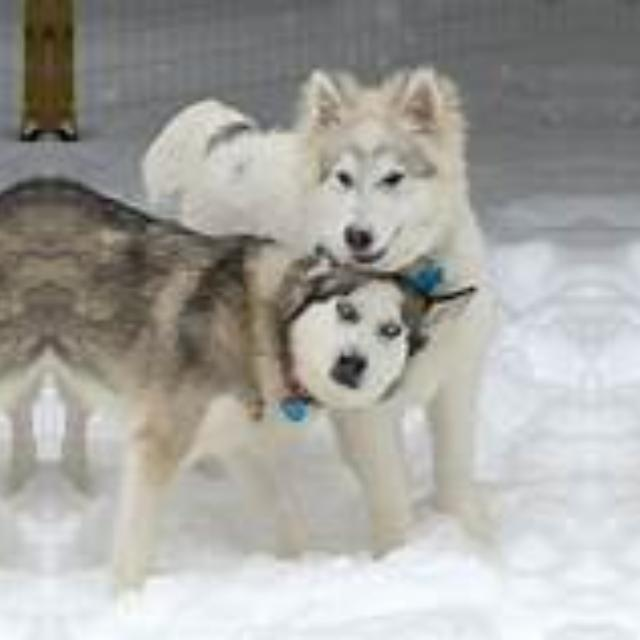dog: (48, 190, 434, 438), (138, 98, 526, 266), (0, 190, 48, 437)
